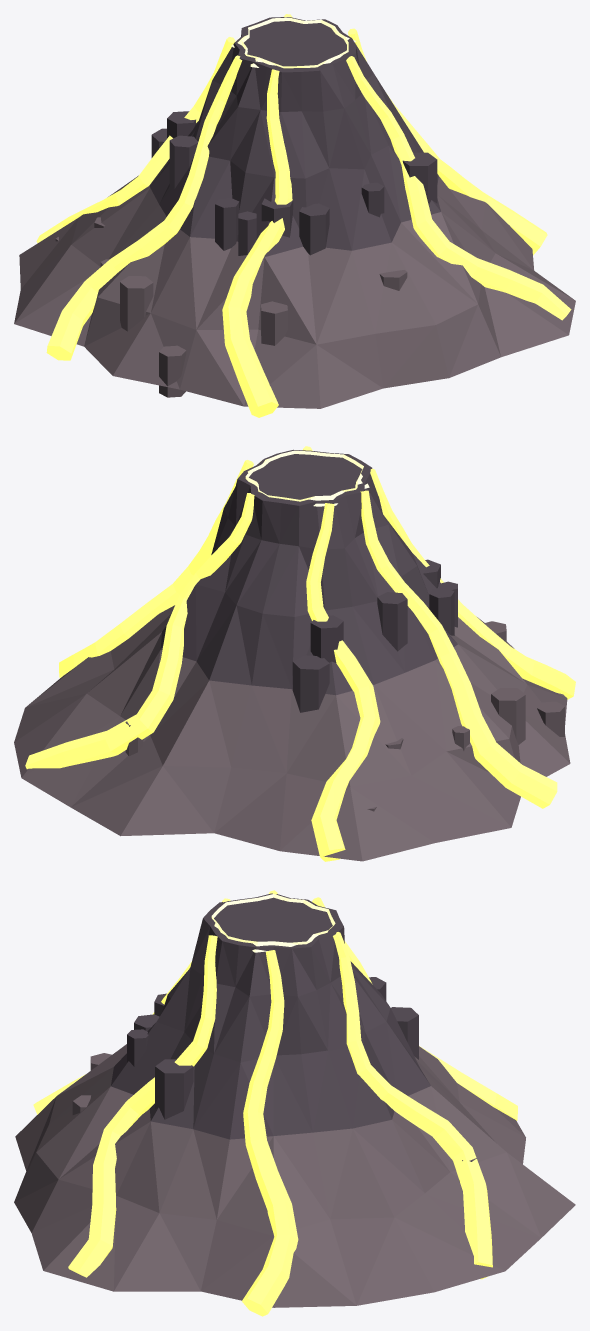
File: volcano_mount.fbx
3 views of the same model, one above another, from view 1: azimuth 30°, elevation 25°; view 2: azimuth 150°, elevation 25°; view 3: azimuth 270°, elevation 25° (orthographic). The views are drawn at different scales.
Parts seen in each view (by area): view 1: Rock_volcano_mount, RockDark_volcano_mount, Lava_volcano_mount, Ember_volcano_mount; view 2: Rock_volcano_mount, RockDark_volcano_mount, Lava_volcano_mount, Ember_volcano_mount; view 3: Rock_volcano_mount, RockDark_volcano_mount, Lava_volcano_mount, Ember_volcano_mount.
Part boxes in pixels (x1,y1,x2,y2): Rock_volcano_mount: (14, 175, 575, 408); RockDark_volcano_mount: (150, 17, 440, 257); Lava_volcano_mount: (36, 14, 571, 417); Ember_volcano_mount: (231, 17, 355, 68); Rock_volcano_mount: (14, 605, 570, 861); RockDark_volcano_mount: (160, 449, 457, 712); Lava_volcano_mount: (25, 446, 575, 861); Ember_volcano_mount: (245, 450, 369, 506); Rock_volcano_mount: (14, 1044, 575, 1307); RockDark_volcano_mount: (111, 893, 430, 1139); Lava_volcano_mount: (33, 890, 517, 1316); Ember_volcano_mount: (211, 894, 335, 952).
Size of the model in its own units: 614 by 317 by 578.
